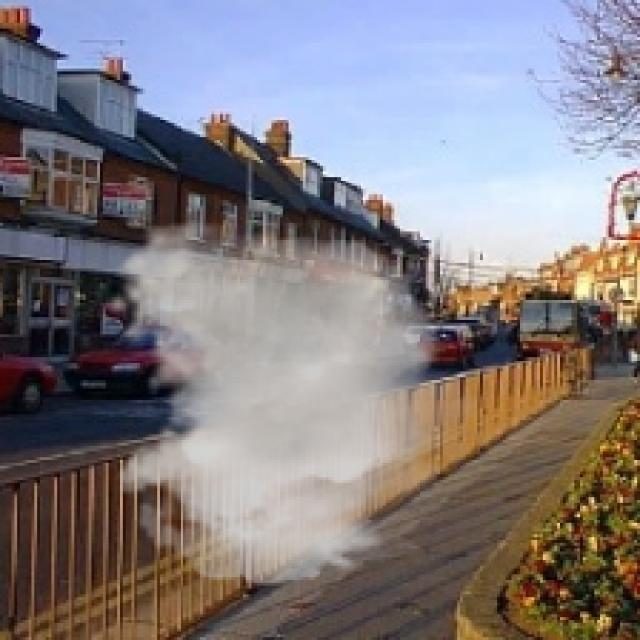Smoke: (102, 220, 492, 586)
